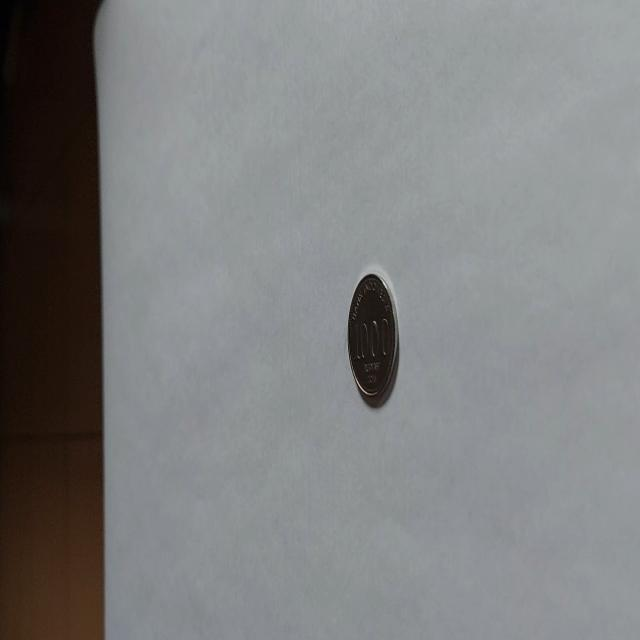seribu rupiah koin: (346, 270, 399, 408)
